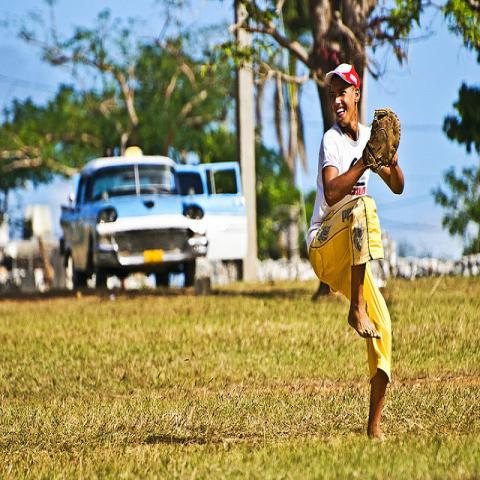car: (59, 156, 210, 291)
